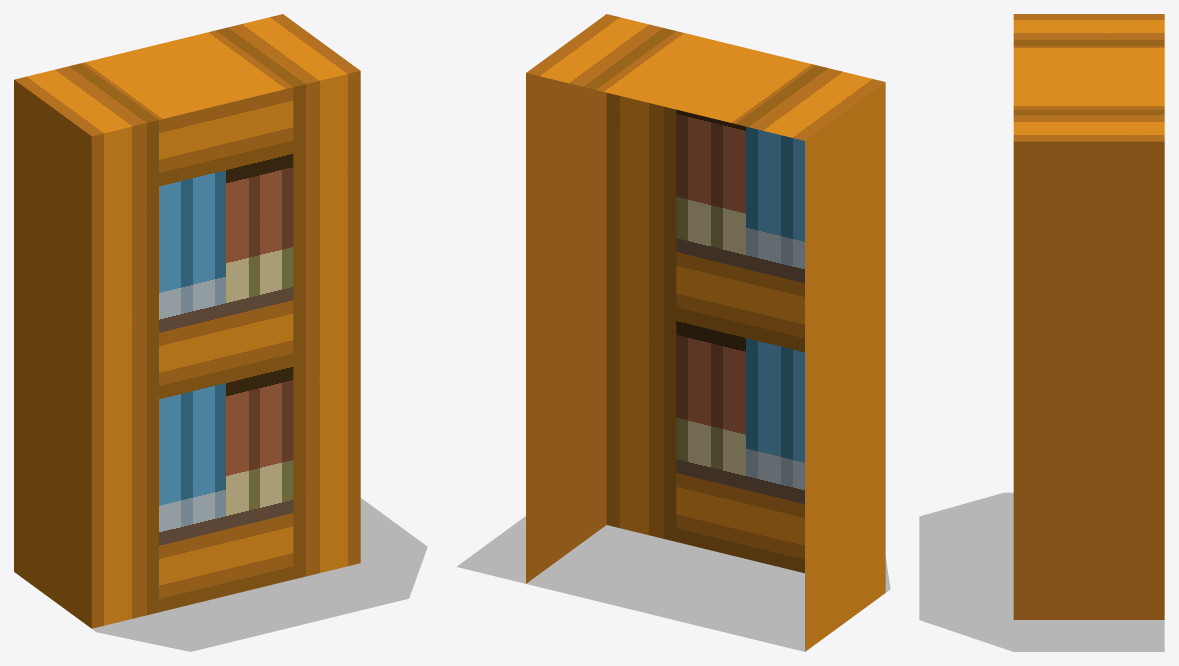
3 renders of one model, left to right at view 1: azimuth 30°, elevation 25°; view 2: azimuth 150°, elevation 25°; view 3: azimuth 270°, elevation 25°, orthographic. The views are drawn at different scales.
Parts seen in each view (by area): view 1: polygon0, polygon1; view 2: polygon0, polygon1; view 3: polygon0, polygon1.
Boxes of the visible parts, left/top/right/bottom form: polygon0: left=14, top=14, right=360, bottom=628; polygon1: left=92, top=498, right=427, bottom=651; polygon0: left=526, top=14, right=885, bottom=651; polygon1: left=456, top=516, right=890, bottom=651; polygon0: left=1013, top=14, right=1164, bottom=619; polygon1: left=919, top=492, right=1164, bottom=651.
Size of the model in its own units: 5 by 7 by 3.25.
